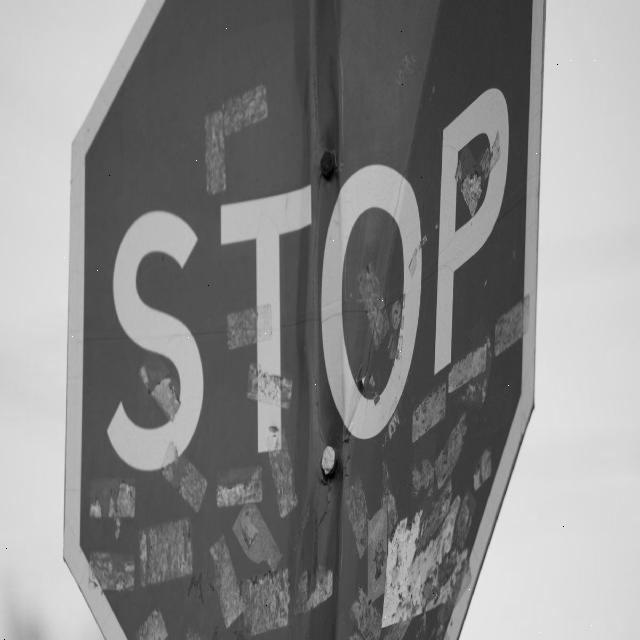Stop-sign: (60, 0, 545, 637)
